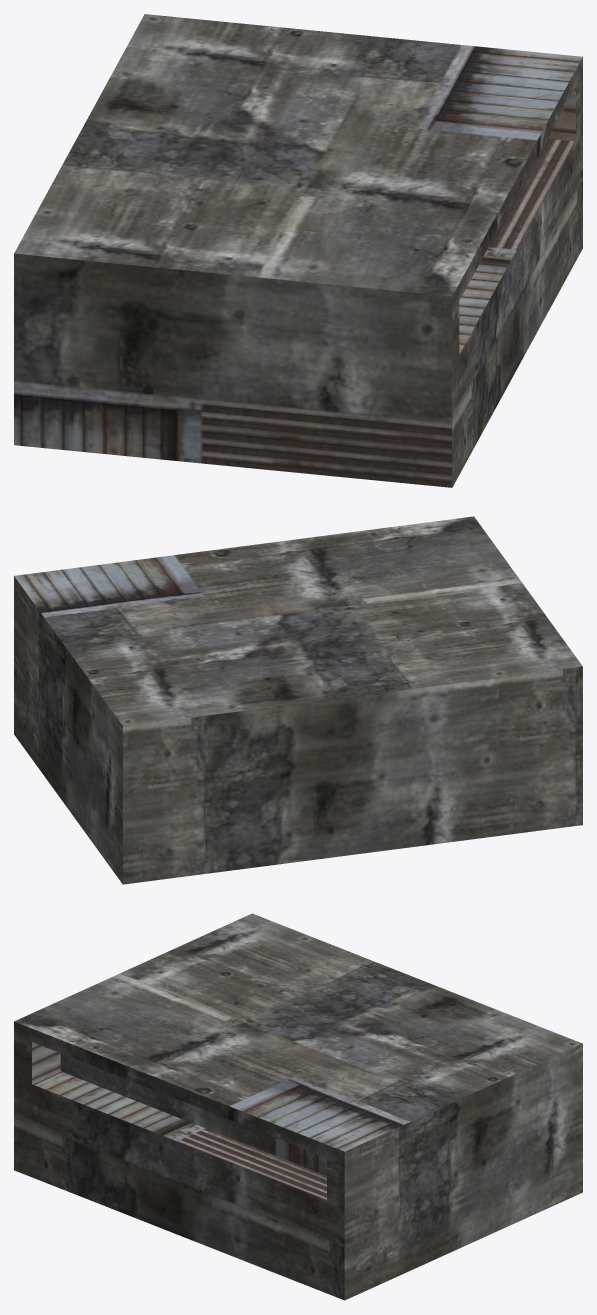
Rendered from slab.glb.
The picture shows the model from 3 angles, top to bottom: view 1: azimuth 30°, elevation 25°; view 2: azimuth 150°, elevation 25°; view 3: azimuth 270°, elevation 25°; orthographic projection. The views are drawn at different scales.
Size of the model in its own units: 4.77 by 1.39 by 4.81.
1 material, 1 textured.
